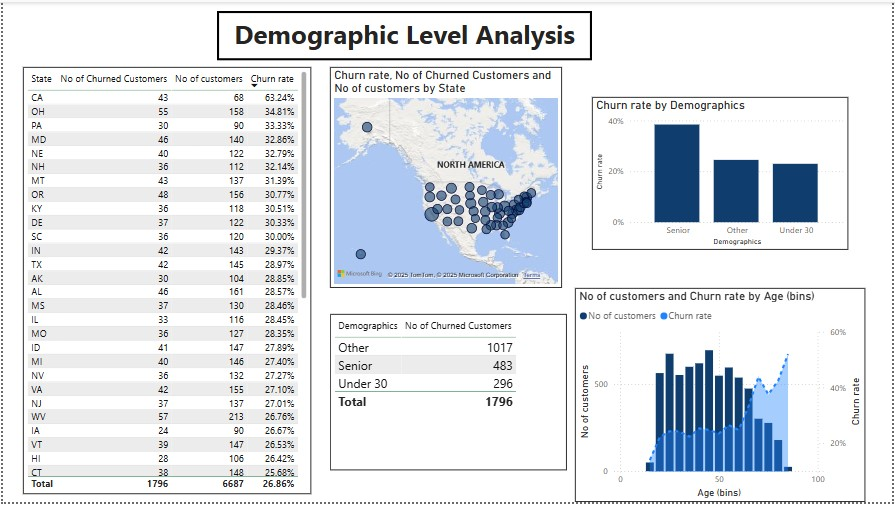

The page's visual inventory and layout, read from the dashboard file:
{"tool":"powerbi","page":{"name":"Demographics","canvas":[1280,720],"ordinal":1},"visuals":[{"type":"map","fields":{"Category":["Databel - Data.State"],"Size":["MeasureTable.Churn rate"]},"box":[470.9,93.6,334.1,318.2],"z":0},{"type":"textbox","box":[308.2,13,540,70.6],"z":1000},{"type":"tableEx","title":"Churn by State","fields":{"Values":["Databel - Data.State","MeasureTable.No of Churned Customers","MeasureTable.No of customers","MeasureTable.Churn rate"]},"box":[28.8,93.6,414.7,614.9],"z":2000},{"type":"columnChart","fields":{"Category":["Databel - Data.Demographics"],"Y":["MeasureTable.Churn rate"]},"box":[848.2,136.8,368.6,220.3],"z":3000},{"type":"lineStackedColumnComboChart","fields":{"Category":["Databel - Data.Age (bins)"],"Y2":["MeasureTable.Churn rate"],"Y":["MeasureTable.No of customers"]},"box":[823.7,411.8,417.6,308.2],"z":4000},{"type":"tableEx","fields":{"Values":["Databel - Data.Demographics","MeasureTable.No of Churned Customers"]},"box":[470.9,449.3,341.3,224.6],"z":5000}]}

Visuals, with their boxes in screenshot pixels (x1, y1, x2, y2), scaled from the page's 1280x720 canvas onto the 895x508 screenshot:
map - Databel - Data.State x MeasureTable.Churn rate: x1=329, y1=66, x2=563, y2=291
textbox: x1=215, y1=9, x2=593, y2=59
"Churn by State" tableEx: x1=20, y1=66, x2=310, y2=500
columnChart - Databel - Data.Demographics x MeasureTable.Churn rate: x1=593, y1=97, x2=851, y2=252
lineStackedColumnComboChart - Databel - Data.Age (bins) x MeasureTable.Churn rate: x1=576, y1=291, x2=868, y2=507
tableEx - Databel - Data.Demographics x MeasureTable.No of Churned Customers: x1=329, y1=317, x2=568, y2=475
